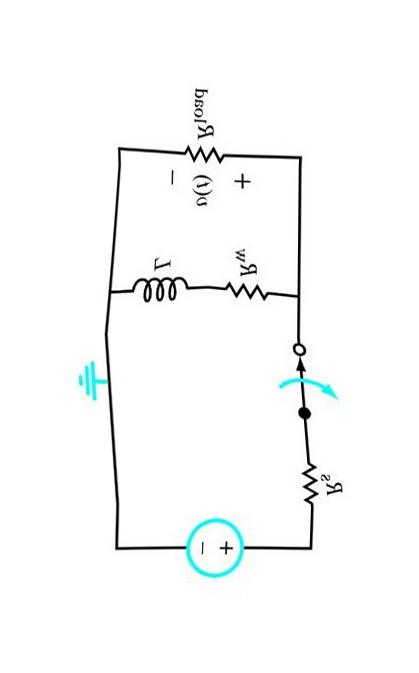Battery: (165, 510, 258, 595)
